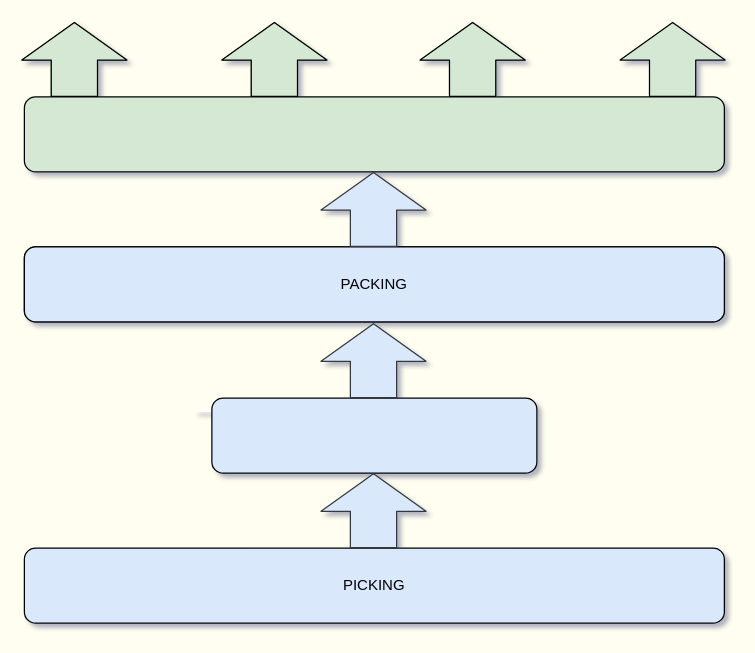
Some shapes in this 755 by 653 pixel diagram are drawn without their labels. The shapes that lost their labels are listed below. From the top down, each one's centre as x and y in pixels, then its label:
point 373,134: DOCKS
point 374,435: CARTS
